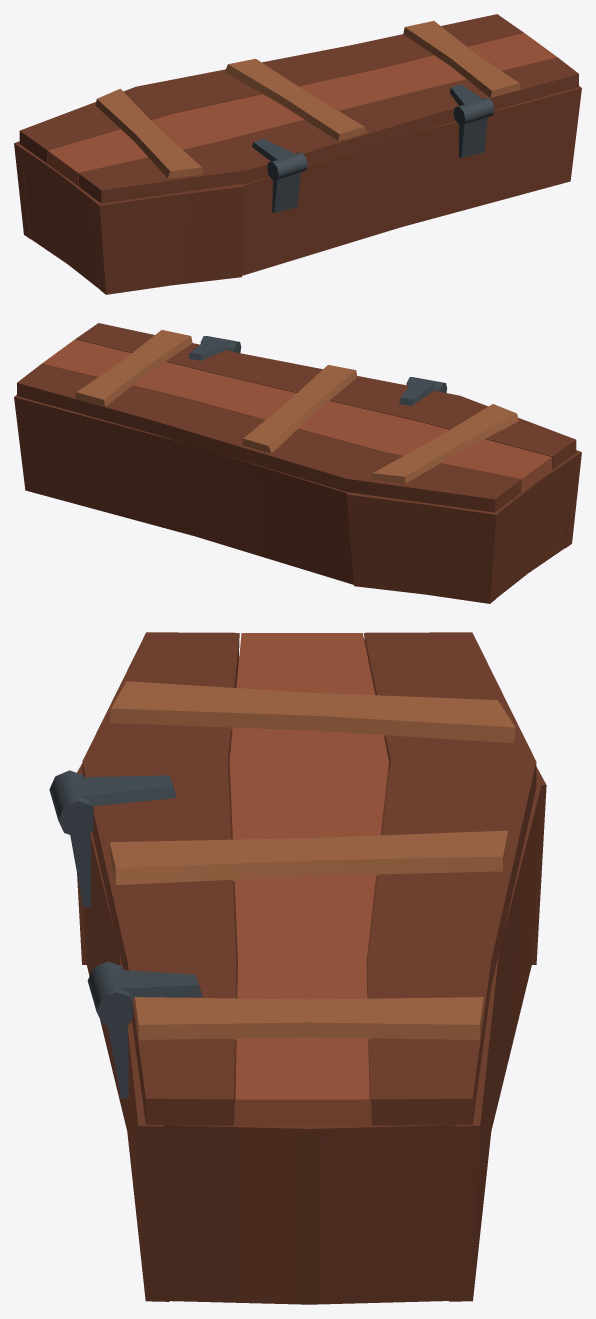
File: coffin.fbx
3 renders of one model, top to bottom at view 1: azimuth 30°, elevation 25°; view 2: azimuth 150°, elevation 25°; view 3: azimuth 270°, elevation 25°, orthographic. The views are drawn at different scales.
Visible parts, largest first — view 1: coffin_top, coffin_bot; view 2: coffin_top, coffin_bot; view 3: coffin_top, coffin_bot.
Part boxes in pixels (box(x1,y1,x2,y2)): coffin_top: box(19, 14, 578, 203); coffin_bot: box(14, 86, 581, 294); coffin_top: box(17, 323, 576, 512); coffin_bot: box(14, 395, 581, 603); coffin_top: box(49, 632, 536, 1125); coffin_bot: box(70, 657, 546, 1304).
Size of the model in its own units: 3.8 by 0.8401 by 1.68.
